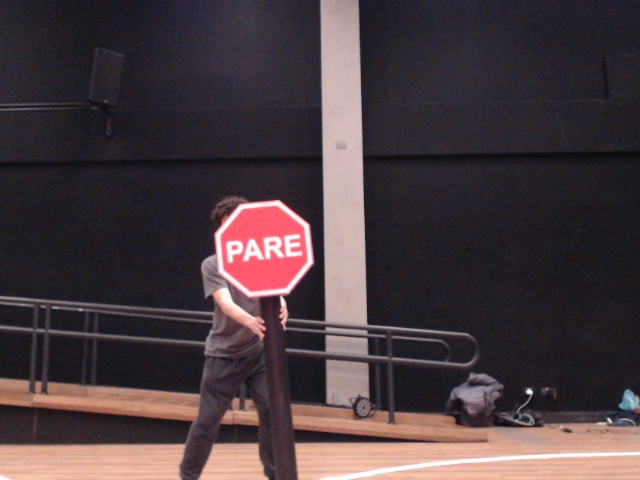SEMAFORO: (202, 188, 343, 318)
